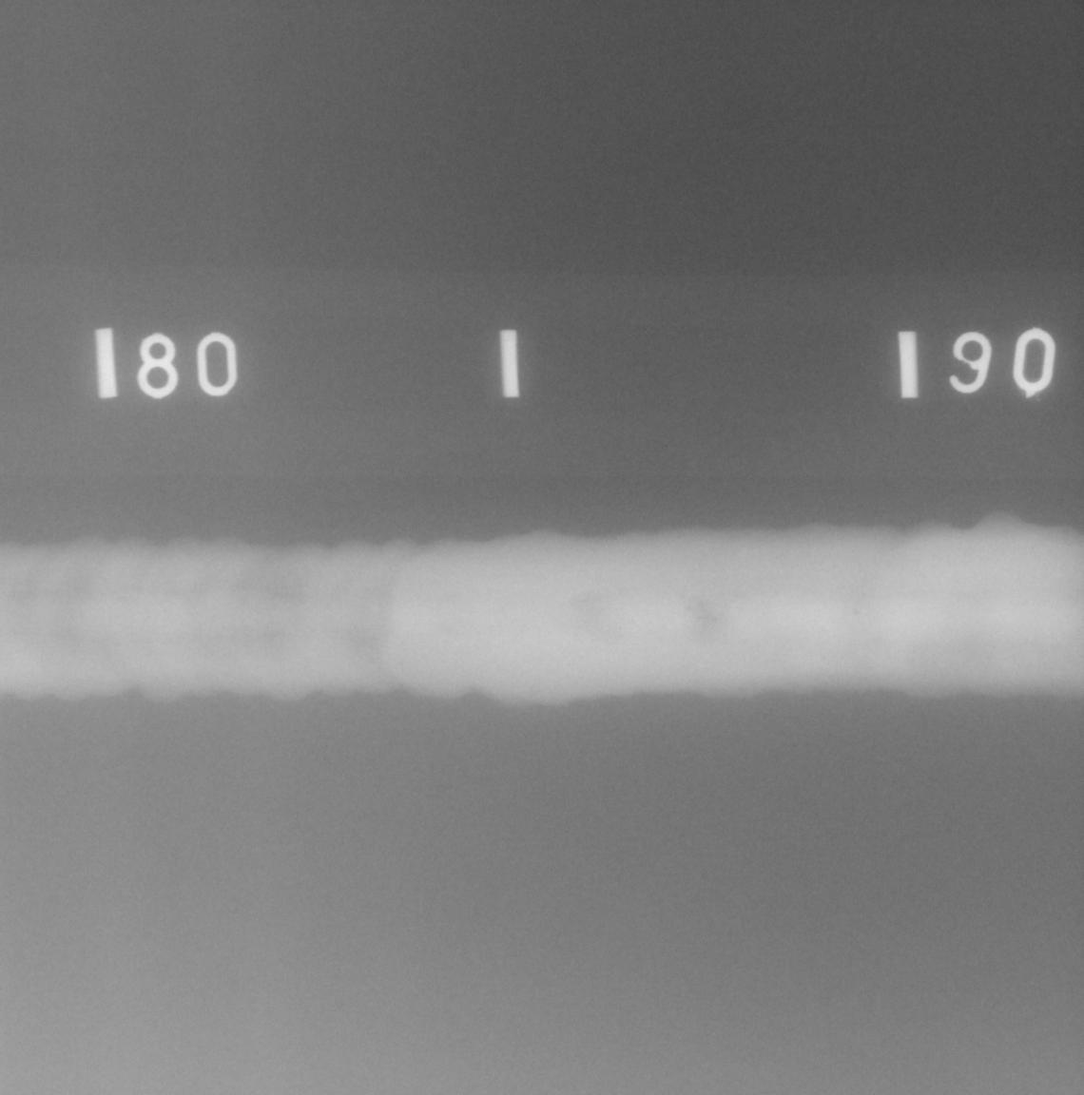Lack of Fusion: (696, 617, 709, 619)
Pore/Porosity: (685, 606, 692, 611), (698, 602, 704, 607), (853, 612, 860, 615), (713, 618, 716, 622)
